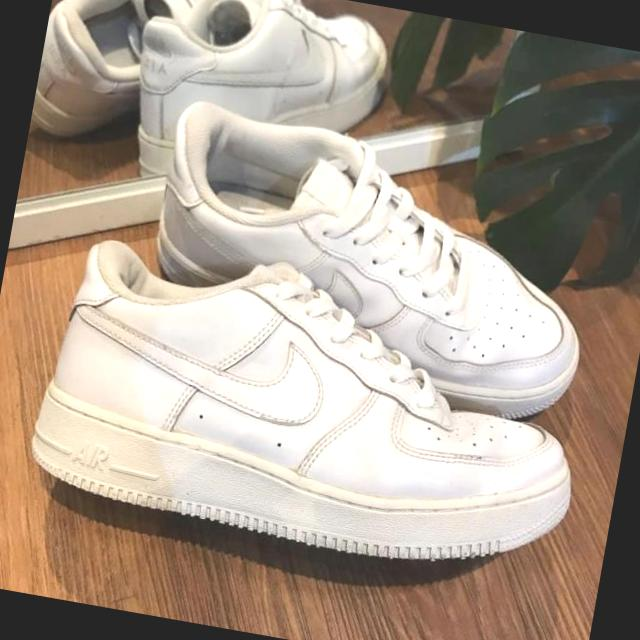nike_fake_airforce: (24, 228, 604, 589), (128, 91, 624, 426)
